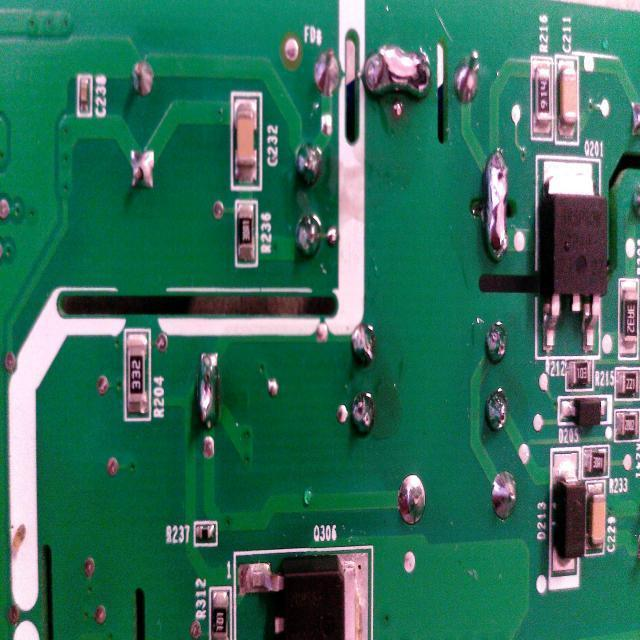Soldering shorted: (358, 42, 434, 112), (482, 143, 512, 261), (196, 348, 222, 432)
